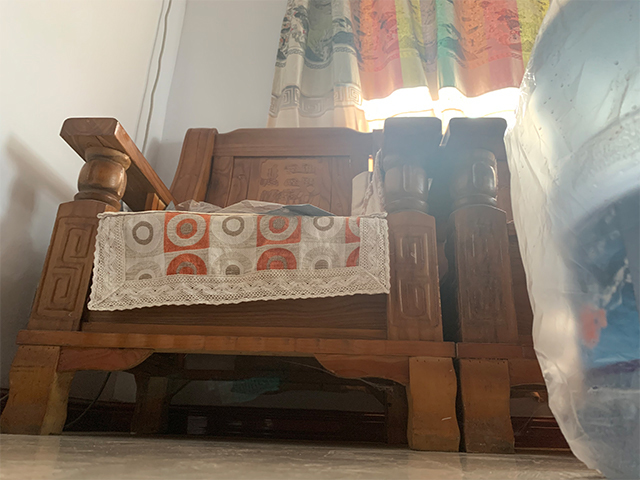sofa: (10, 107, 453, 451)
